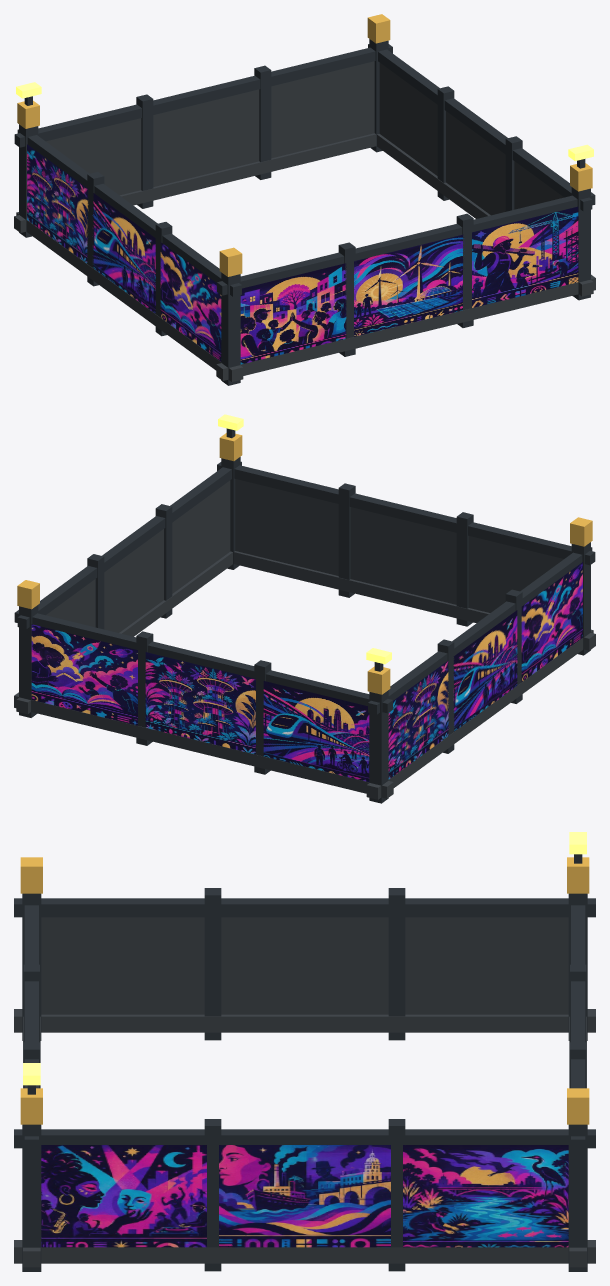
Rendered from synthwave-hoarding.glb.
3 views of the same model, one above another, from view 1: azimuth 30°, elevation 25°; view 2: azimuth 150°, elevation 25°; view 3: azimuth 270°, elevation 25° (orthographic). The views are drawn at different scales.
Visible parts, largest first — view 1: Hoard_Door, Hoard_HoardArt, Hoard_Frame, Hoard_Hazard, Hoard_DimA; view 2: Hoard_Door, Hoard_HoardArt, Hoard_Frame, Hoard_Hazard, Hoard_DimA; view 3: Hoard_Door, Hoard_HoardArt, Hoard_Frame, Hoard_Hazard, Hoard_DimA.
Part boxes in pixels (bbox=[...]): Hoard_Door: bbox=[14, 61, 595, 381]; Hoard_HoardArt: bbox=[27, 144, 578, 364]; Hoard_Frame: bbox=[14, 39, 595, 385]; Hoard_Hazard: bbox=[17, 14, 592, 276]; Hoard_DimA: bbox=[16, 82, 593, 161]; Hoard_Door: bbox=[14, 479, 595, 799]; Hoard_HoardArt: bbox=[31, 562, 582, 781]; Hoard_Frame: bbox=[14, 428, 595, 803]; Hoard_Hazard: bbox=[17, 433, 592, 694]; Hoard_DimA: bbox=[218, 414, 391, 664]; Hoard_Door: bbox=[14, 917, 595, 1267]; Hoard_HoardArt: bbox=[41, 1145, 568, 1247]; Hoard_Frame: bbox=[14, 854, 595, 1271]; Hoard_Hazard: bbox=[20, 857, 589, 1124]; Hoard_DimA: bbox=[23, 832, 586, 1085].
Bounding box in the file's own units: 0.98 × 0.369 × 0.98.
Materials: 5 (1 with a texture image).
